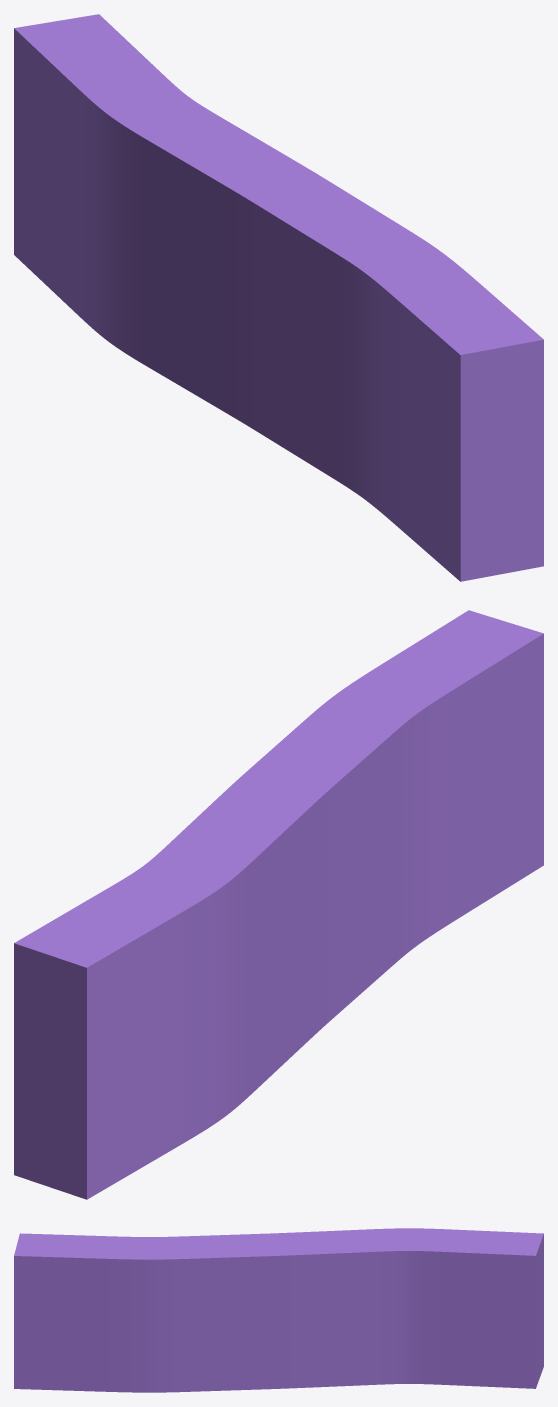
File: I_purple.fbx
3 views of the same model, one above another, from view 1: azimuth 30°, elevation 25°; view 2: azimuth 150°, elevation 25°; view 3: azimuth 270°, elevation 25° (orthographic). The views are drawn at different scales.
Visible parts, largest first — view 1: NurbsPath.005; view 2: NurbsPath.005; view 3: NurbsPath.005.
Part boxes in pixels (x1,y1,x2,y2): NurbsPath.005: (14, 14, 543, 581); NurbsPath.005: (14, 610, 543, 1199); NurbsPath.005: (14, 1228, 543, 1392).
Size of the model in its own units: 25.24 by 50 by 181.
